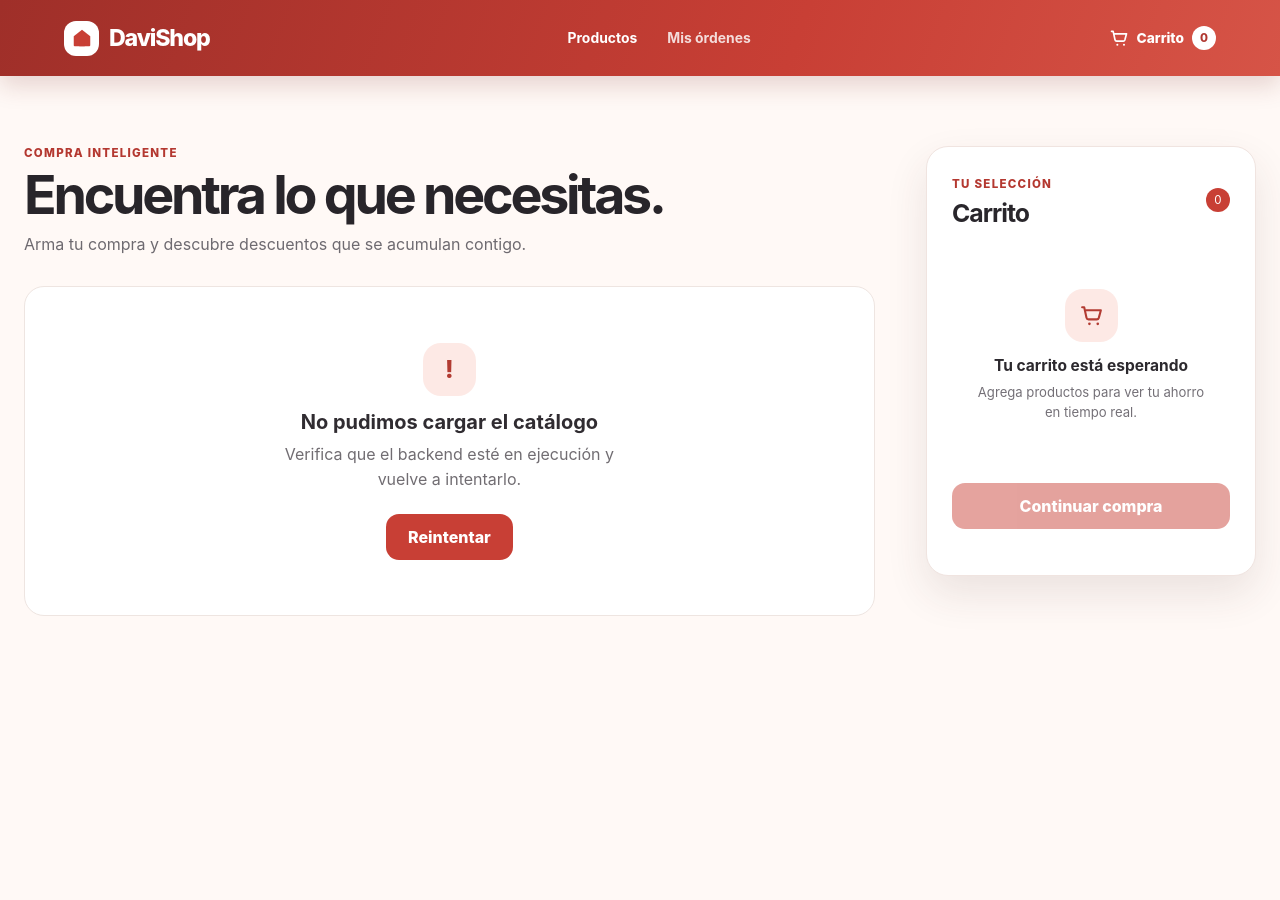
Test case: CatalogPageComponent › shows an error state and allows retrying the request
What coordinates should you click on to do the following:
click the button "Reintentar"
I would click on:
 (449, 537)
Its box is x1=386 y1=514 x2=513 y2=560.
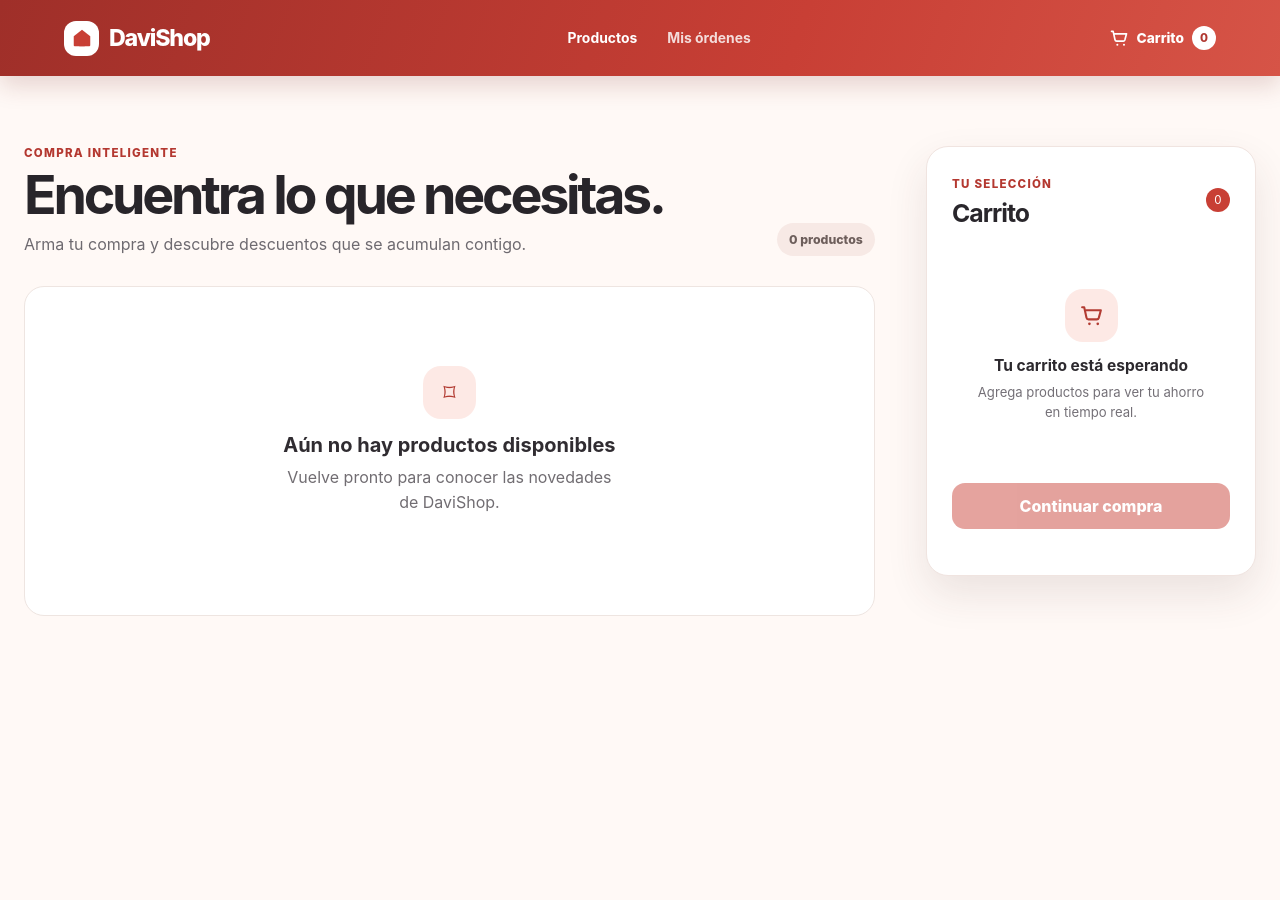
Now the text "Aún no hay productos disponibles" is shown, box x1=279 y1=433 x2=619 y2=457
